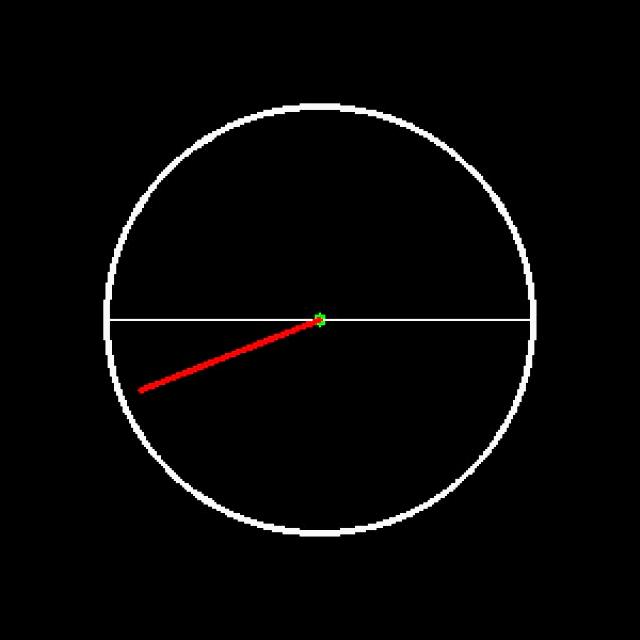Needle_Tip: (124, 365, 173, 408)
Needle_base: (297, 294, 343, 345)
